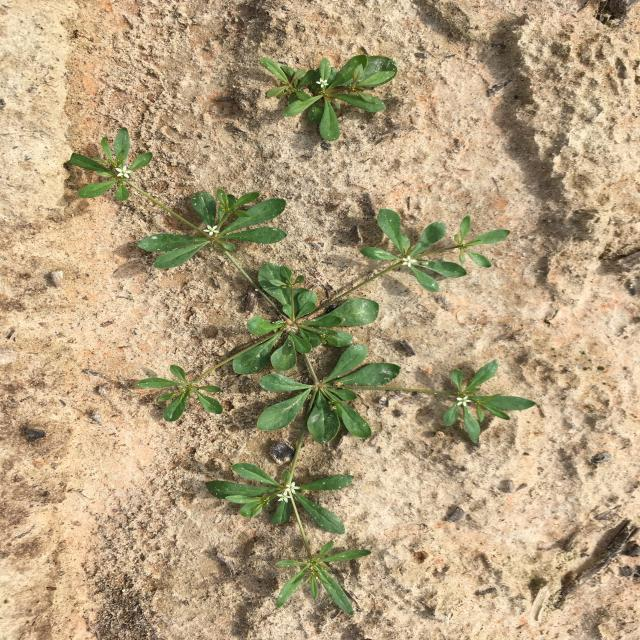Carpetweed: (66, 126, 538, 615), (258, 54, 399, 141)
